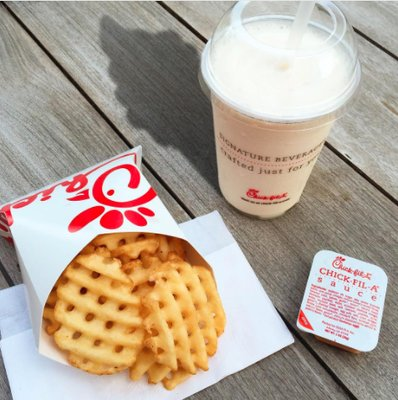pizza: (198, 0, 363, 220)
soup: (42, 232, 228, 386)
